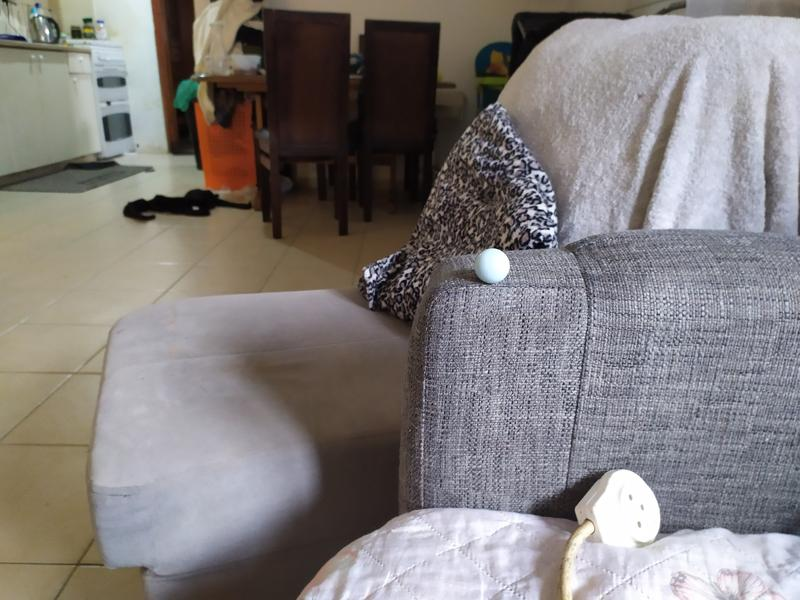Warning: (472, 246, 512, 285)
